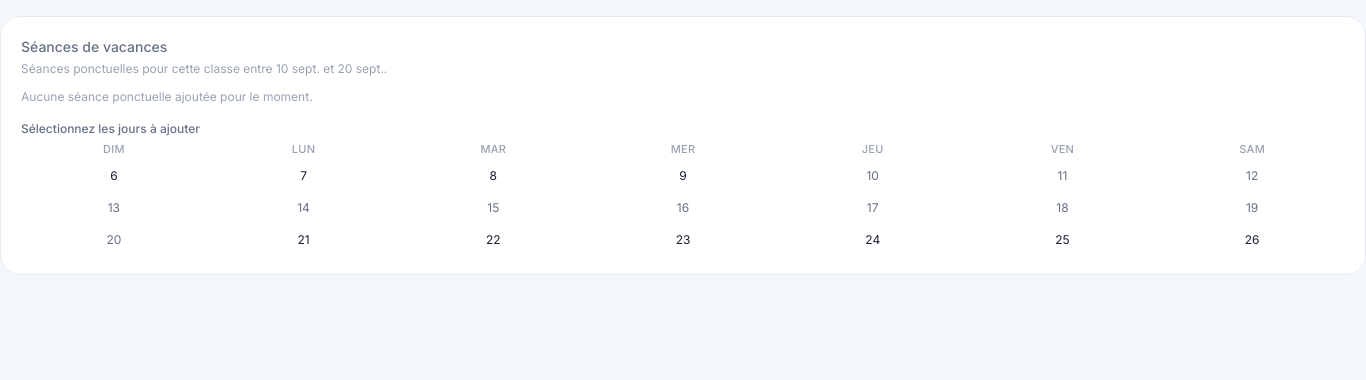
Scenario: VacationSessionsPanel › selecting a day adds a draft row with default start/end times
Click the button named "10 septembre": (873, 176) [780,162,966,190]
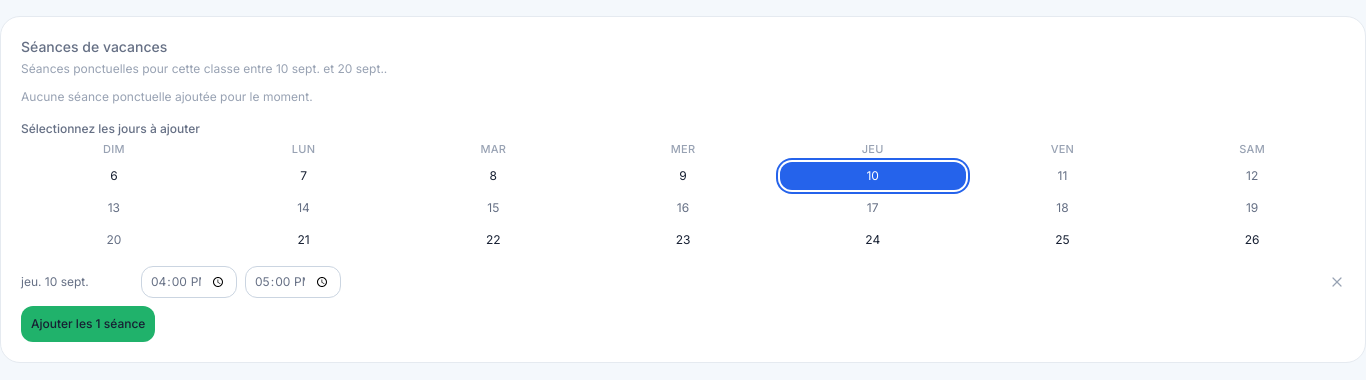
Now the button "Ajouter les 1 séance" is shown, box [21,306,155,342]
Now the 1st time field showing "16:00" is shown, box [141,266,237,298]
Now the 2nd time field showing "17:00" is shown, box [245,266,341,298]
